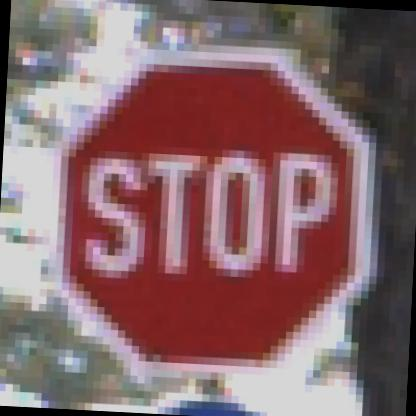stop: (20, 40, 394, 384)
